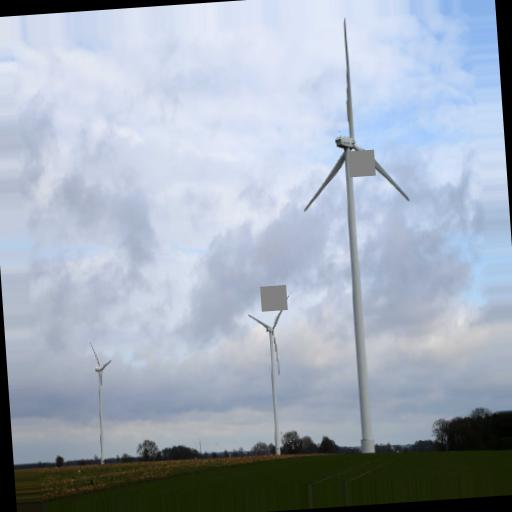wind turbine: (302, 15, 417, 454), (243, 296, 294, 456), (85, 339, 120, 463)
